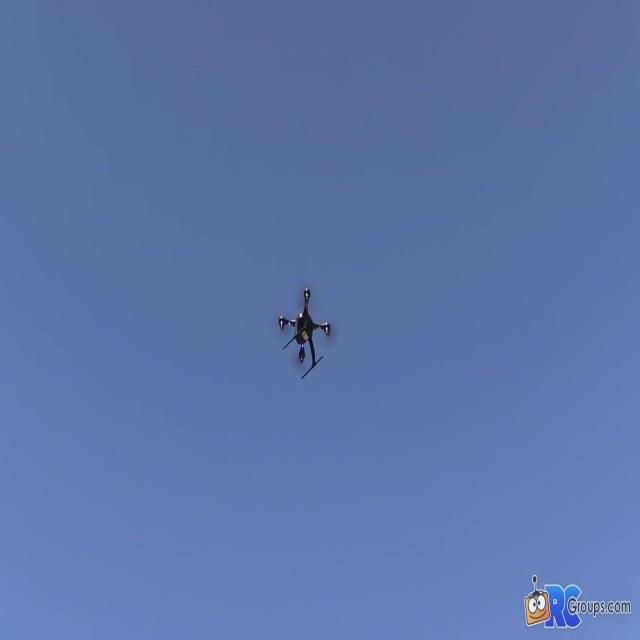drone: (277, 285, 332, 383)
